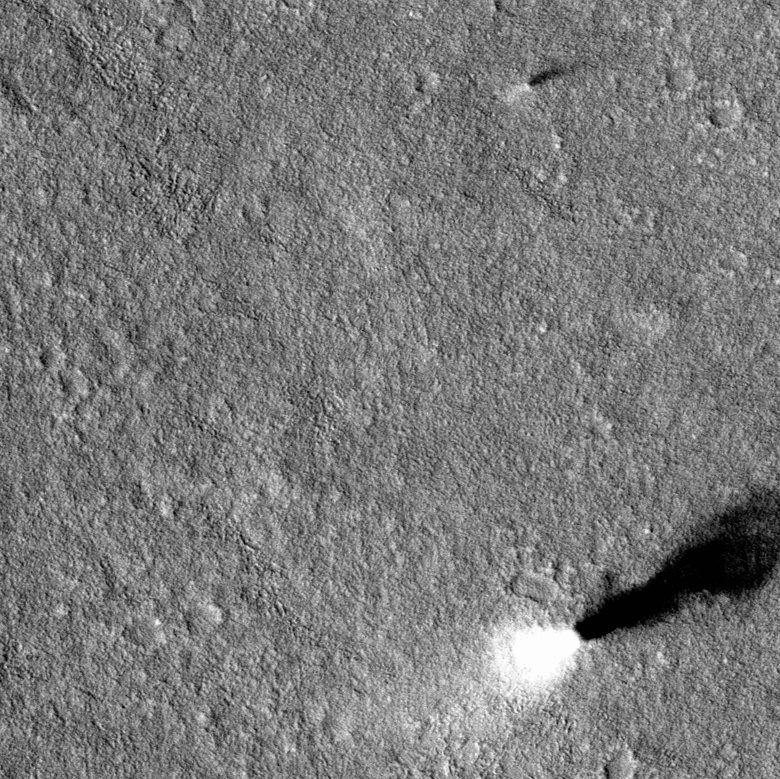dust_devil: (475, 484, 780, 707), (501, 58, 572, 104)
